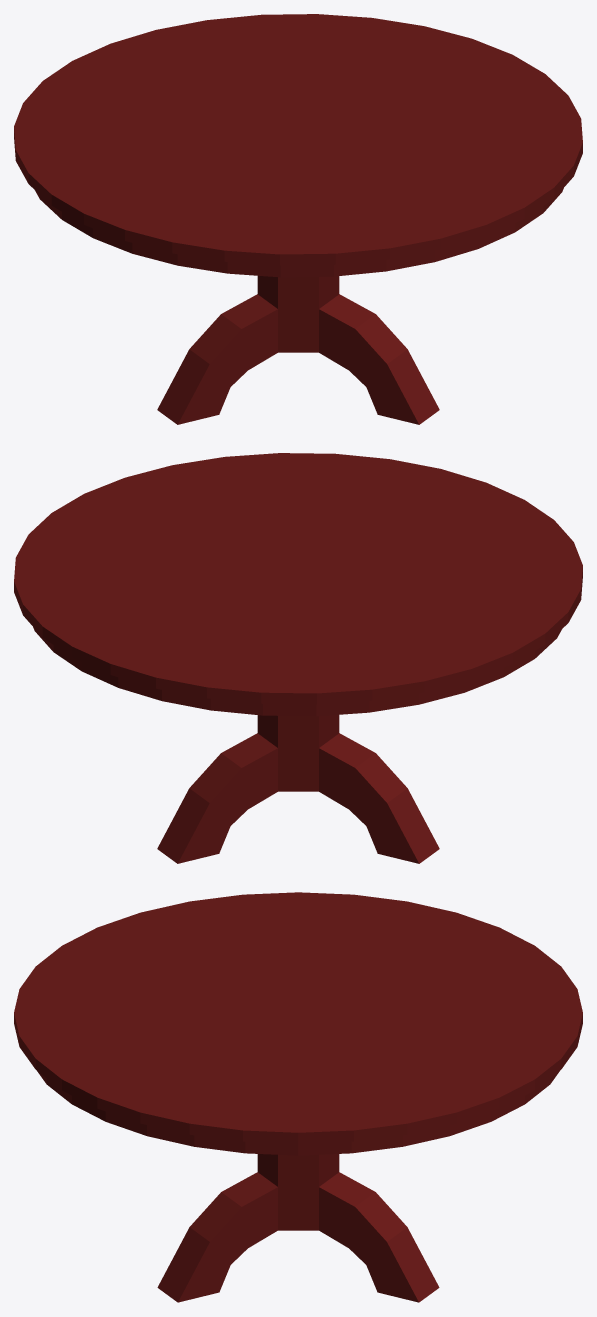
Rendered from round_table_2.glb.
The picture shows the model from 3 angles, top to bottom: view 1: azimuth 30°, elevation 25°; view 2: azimuth 150°, elevation 25°; view 3: azimuth 270°, elevation 25°; orthographic projection.
Visible parts, largest first — view 1: top_0, legs_1; view 2: top_0, legs_1; view 3: top_0, legs_1.
Part boxes in pixels (x1,y1,x2,y2): top_0: [14, 14, 582, 277]; legs_1: [157, 275, 439, 424]; top_0: [14, 453, 582, 716]; legs_1: [157, 714, 439, 863]; top_0: [14, 892, 582, 1155]; legs_1: [157, 1154, 439, 1302].
Bounding box in the file's own units: 2 × 0.9722 × 2.
1 material, 1 textured.
